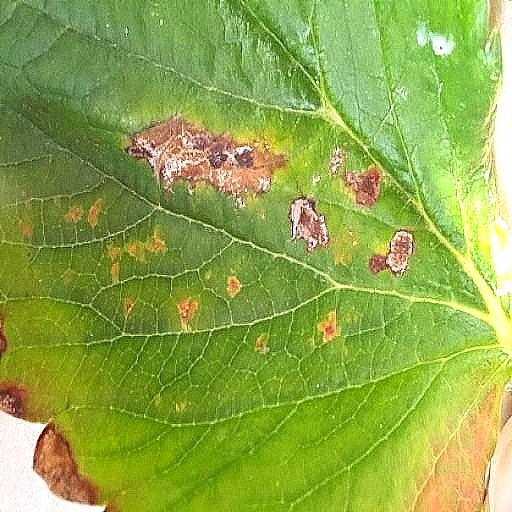Angular Leafspot: (6, 87, 439, 413)
